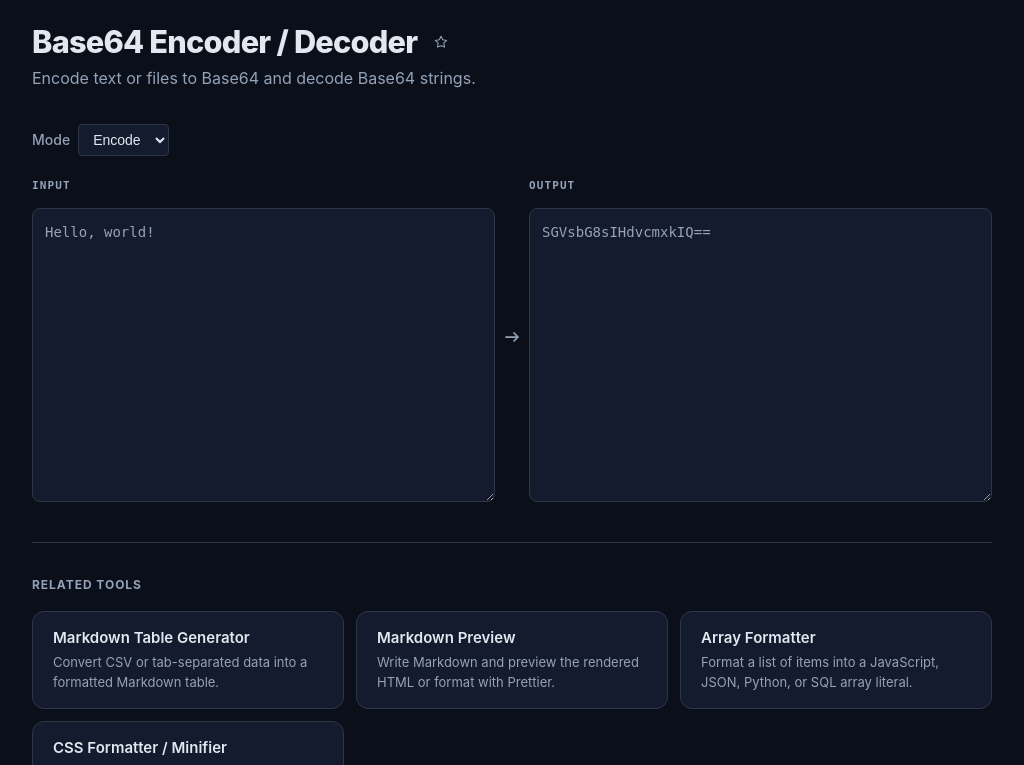
Scenario: Base64 › decodes "SGVsbG8=" to "Hello"
Select "Decode" in the dropdown labelled "Mode": (124, 140) top-left (78, 124), bottom-right (169, 156)
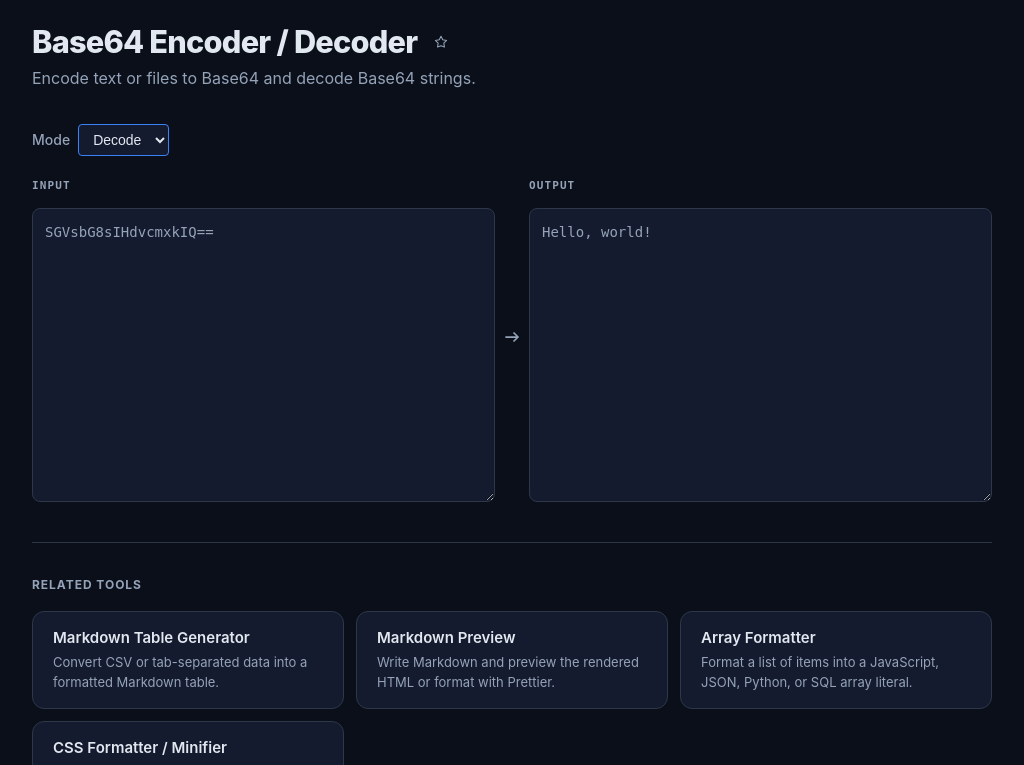
In the text box named "input": (264, 355) top-left (32, 208), bottom-right (495, 502), type "SGVsbG8="
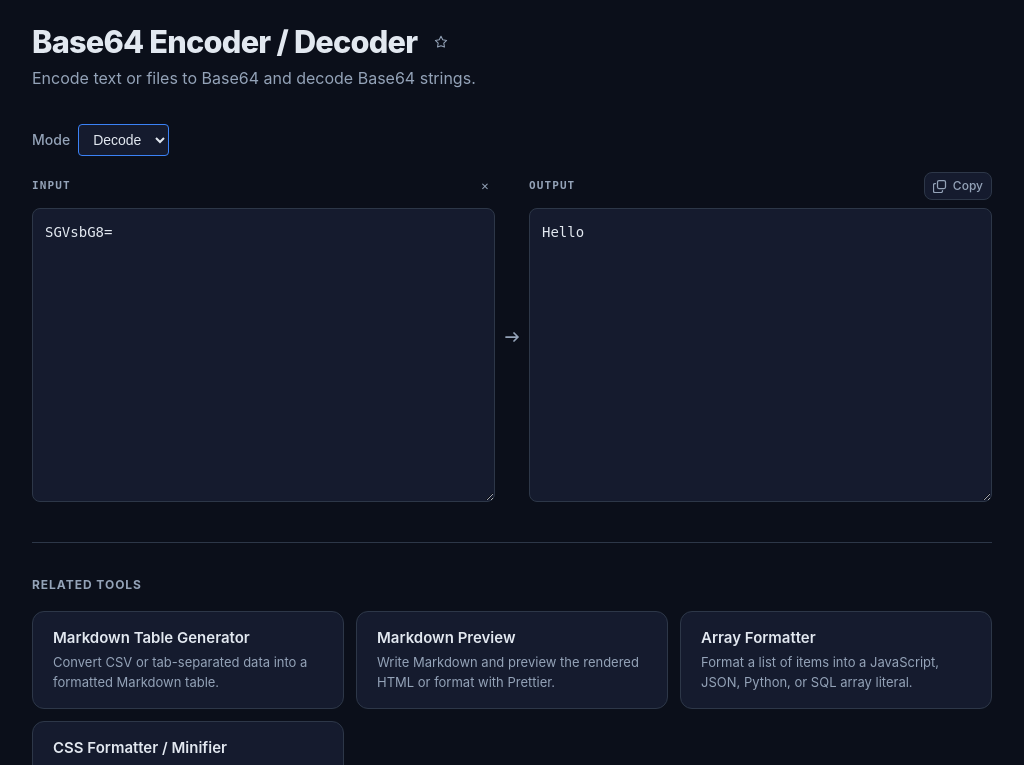
Now the text box named "output" holds "Hello", box top-left (529, 208), bottom-right (992, 502)
